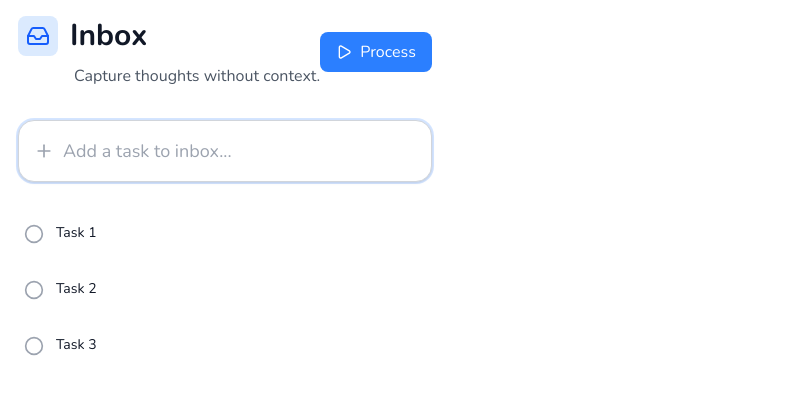
Scenario: InboxView Processing Mode › exits processing mode when Exit button is clicked
This screenshot has width=799, height=411.
Click the button "Process" at x=376, y=52, box x1=320 y1=32 x2=432 y2=72
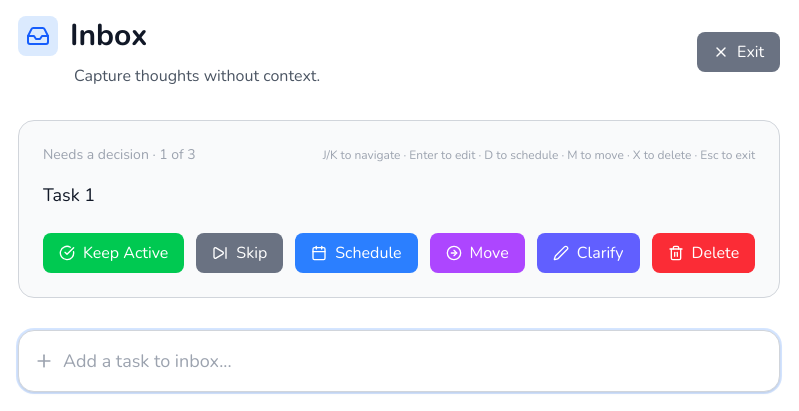
Check: the text "Needs a decision · 1 of 3" is shown, box x1=43 y1=145 x2=196 y2=165
Click the button "Exit" at x=739, y=52, box x1=697 y1=32 x2=780 y2=72
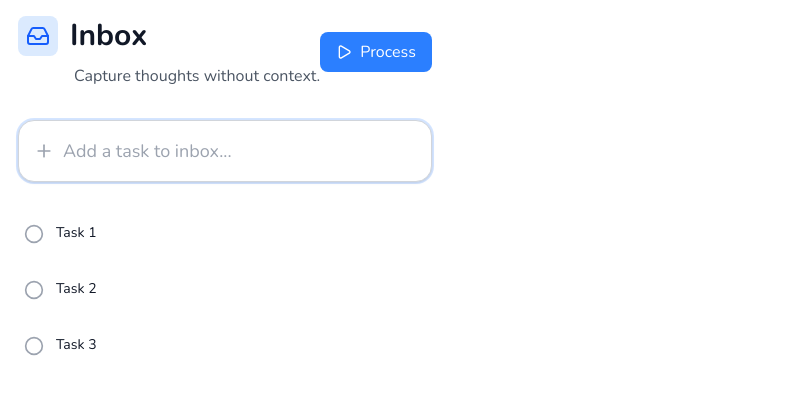
Check: the text "Needs a decision" is gone
